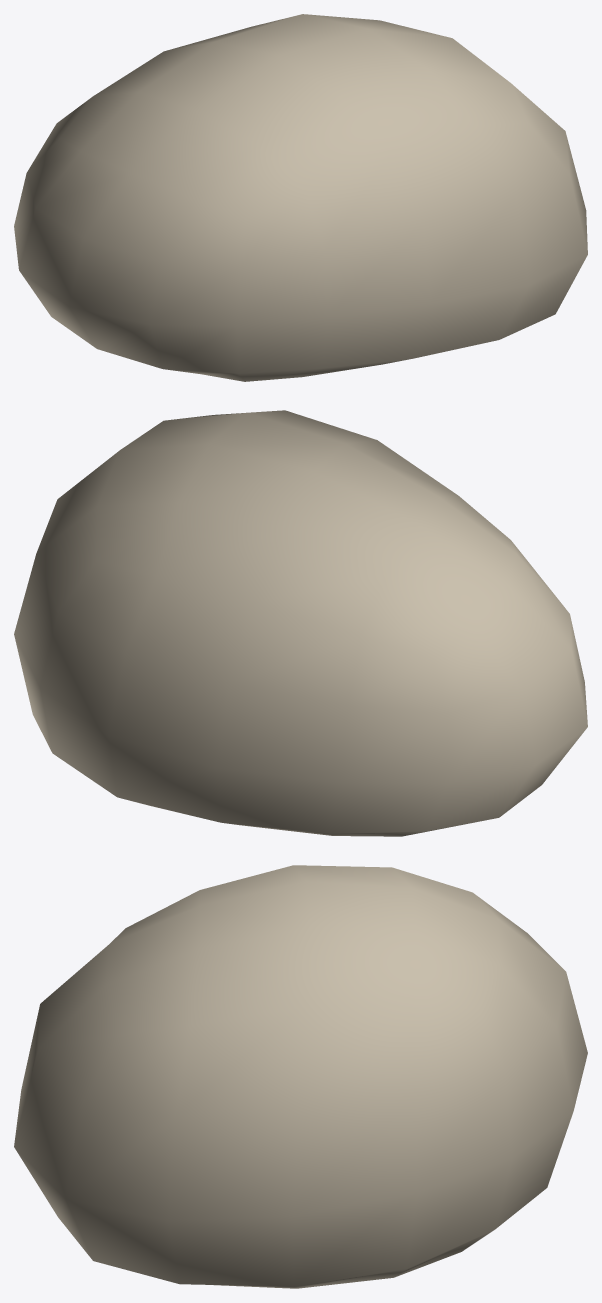
File: itch_assetquest_pond_pebble_1c.glb
3 views of the same model, one above another, from view 1: azimuth 30°, elevation 25°; view 2: azimuth 150°, elevation 25°; view 3: azimuth 270°, elevation 25° (orthographic). The views are drawn at different scales.
Parts seen in each view (by area): view 1: Pebble_1c; view 2: Pebble_1c; view 3: Pebble_1c.
Part boxes in pixels (x1,y1,x2,y2): Pebble_1c: (14,14,587,381); Pebble_1c: (14,410,587,836); Pebble_1c: (14,865,587,1288).
Size of the model in its own units: 0.42 by 0.234 by 0.3738.
